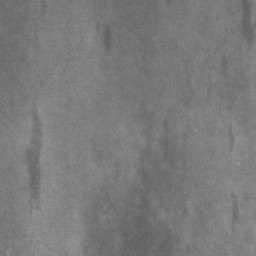Inclusion: (26, 109, 45, 196), (242, 1, 256, 44), (102, 27, 113, 50)
